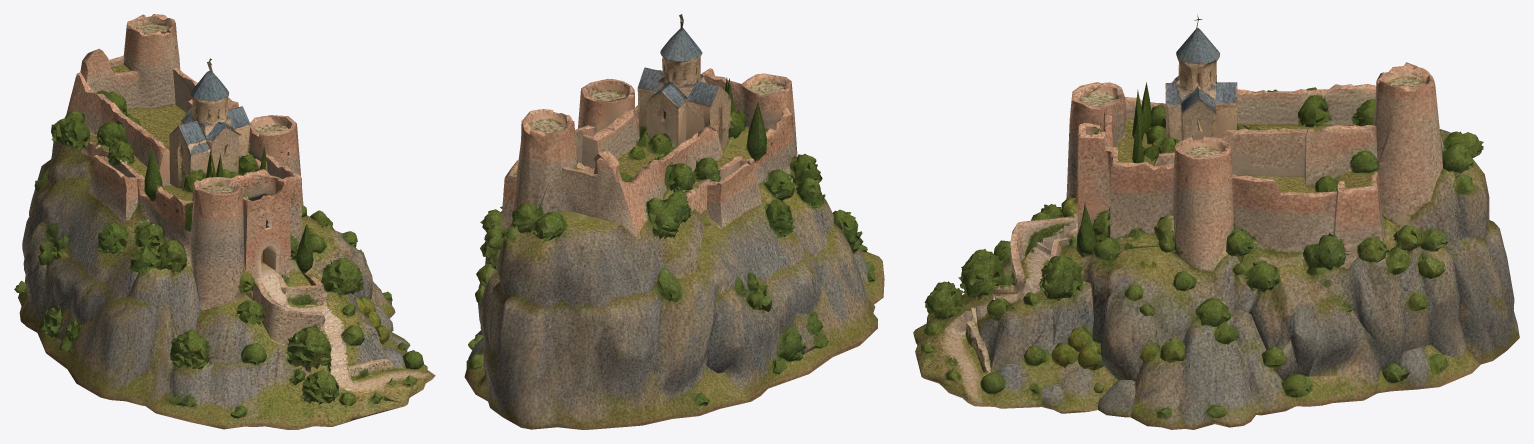
The model's file is m_tb_narikala.glb.
3 renders of one model, left to right at view 1: azimuth 30°, elevation 25°; view 2: azimuth 150°, elevation 25°; view 3: azimuth 270°, elevation 25°, orthographic. The views are drawn at different scales.
Bounding box in the file's own units: 0.6975 × 0.5821 × 0.9982.
Materials: 1 (1 with a texture image).
